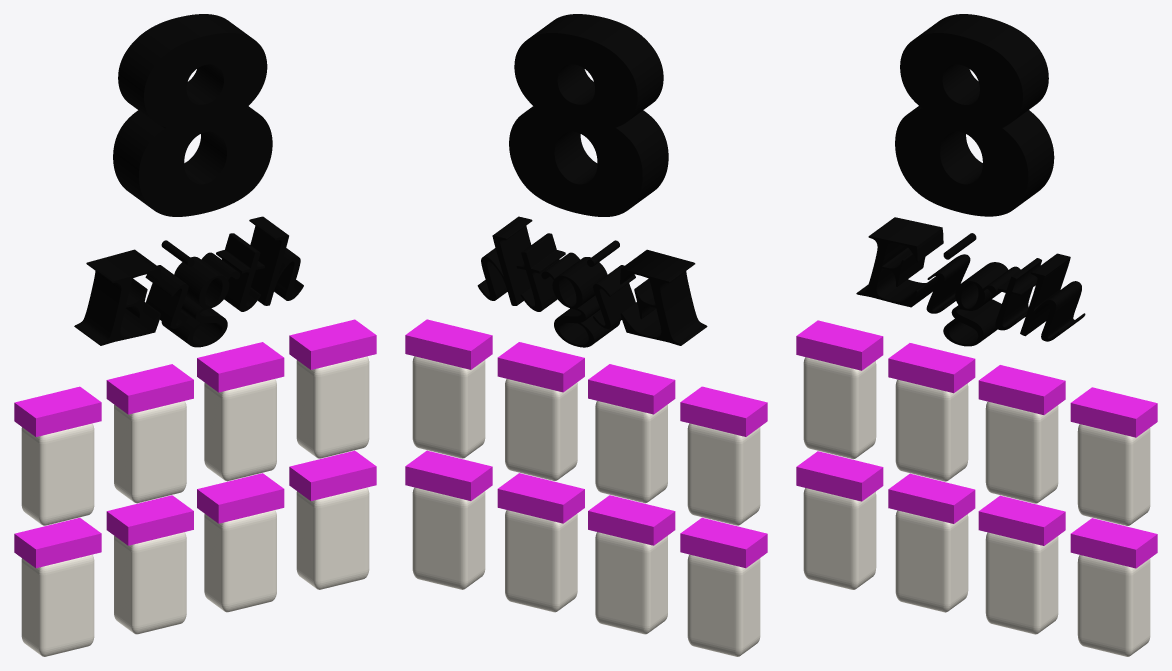
File: Number_8.glb
3 renders of one model, left to right at view 1: azimuth 30°, elevation 25°; view 2: azimuth 150°, elevation 25°; view 3: azimuth 330°, elevation 25°, orthographic.
Parts seen in each view (by area): view 1: Text, Text.001, Cube.016, Cube.005, Cube.012, Cube.001, Cube.013, Cube.004, Cube.008, Cube.009, Cube.006, Cube.015 (+6 smaller); view 2: Text, Text.001, Cube.005, Cube.016, Cube.001, Cube.012, Cube.004, Cube.013, Cube.009, Cube.008, Cube.002, Cube.006 (+6 smaller); view 3: Text, Text.001, Cube.001, Cube.009, Cube.013, Cube.008, Cube.016, Cube.012, Cube.004, Cube.005, Cube.006, Cube.003 (+6 smaller).
Part boxes in pixels (box(x1,y1,x2,y2)): Text: box(113, 14, 272, 216); Text.001: box(74, 216, 303, 347); Cube.016: box(21, 554, 94, 656); Cube.005: box(296, 356, 369, 458); Cube.012: box(296, 487, 369, 589); Cube.001: box(21, 423, 94, 525); Cube.013: box(114, 532, 186, 634); Cube.004: box(114, 401, 186, 503); Cube.008: box(204, 379, 276, 481); Cube.009: box(204, 510, 276, 612); Cube.006: box(289, 319, 376, 369); Cube.015: box(14, 518, 101, 568); Text: box(509, 14, 668, 216); Text.001: box(477, 216, 707, 347); Cube.005: box(412, 356, 485, 458); Cube.016: box(687, 554, 760, 656); Cube.001: box(687, 423, 760, 525); Cube.012: box(412, 487, 485, 589); Cube.004: box(595, 401, 667, 503); Cube.013: box(595, 532, 667, 634); Cube.009: box(505, 510, 577, 612); Cube.008: box(505, 379, 577, 480); Cube.002: box(680, 386, 767, 436); Cube.006: box(405, 319, 492, 369); Text: box(895, 14, 1054, 216); Text.001: box(856, 217, 1085, 346); Cube.001: box(803, 357, 876, 459); Cube.009: box(985, 532, 1058, 634); Cube.013: box(895, 510, 968, 612); Cube.008: box(985, 401, 1058, 503); Cube.016: box(803, 488, 876, 589); Cube.012: box(1077, 555, 1150, 656); Cube.004: box(895, 379, 968, 481); Cube.005: box(1077, 424, 1150, 525); Cube.006: box(1070, 387, 1157, 437); Cube.003: box(888, 343, 975, 393).
Bounding box in the file's own units: 0.9134 × 1.5 × 0.12.
